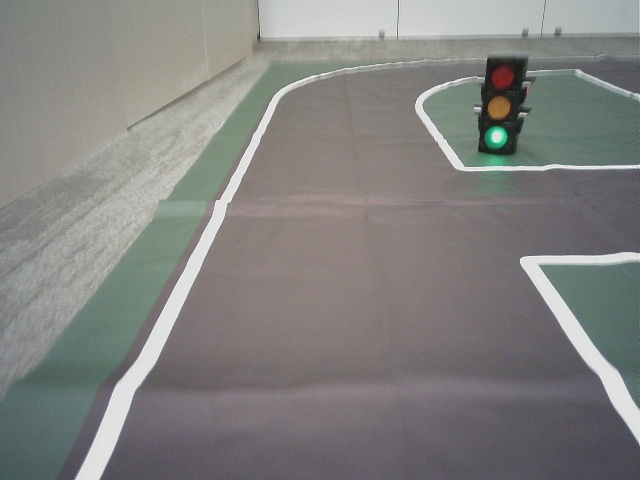green: (481, 60, 516, 148)
